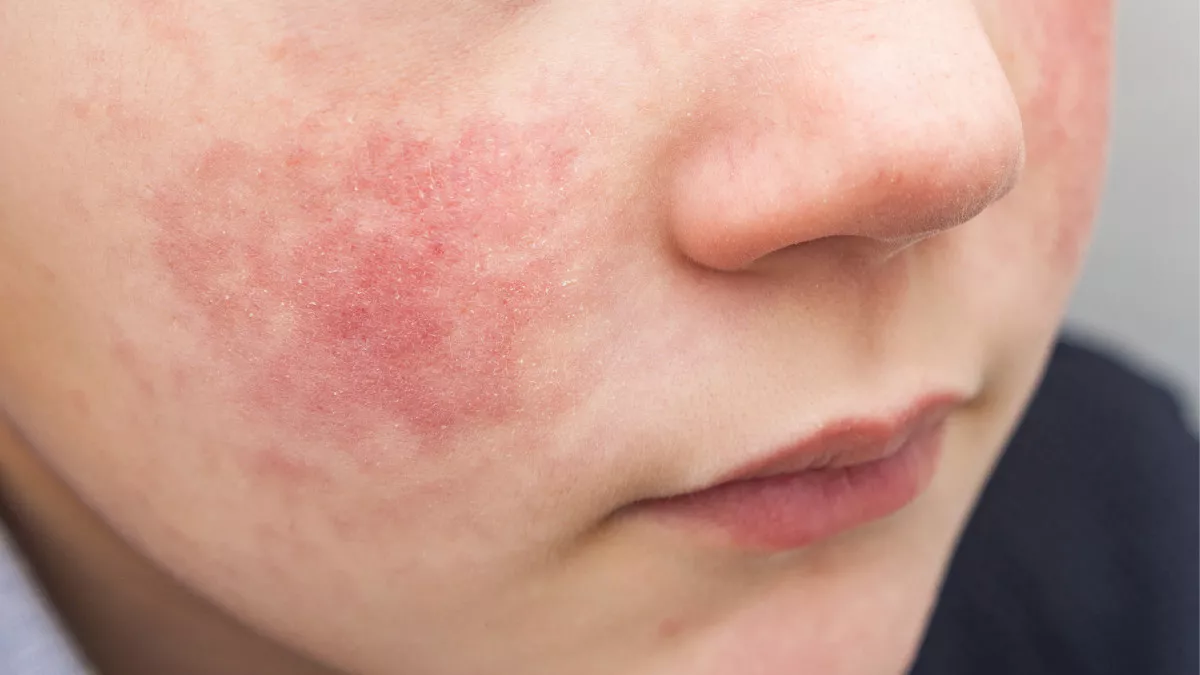Eksim: (139, 82, 627, 530)
